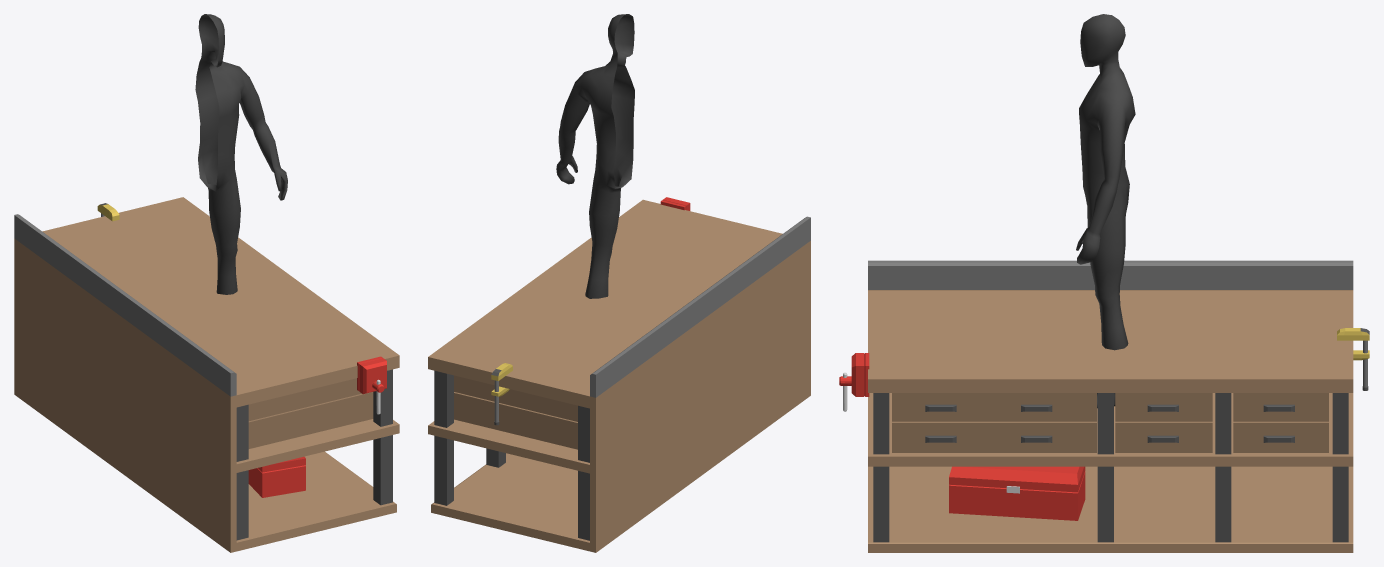
Rendered from Workbench.fbx.
3 views of the same model, side by side, from view 1: azimuth 30°, elevation 25°; view 2: azimuth 150°, elevation 25°; view 3: azimuth 270°, elevation 25° (orthographic). The views are drawn at different scales.
Visible parts, largest first — view 1: Workbench, Body; view 2: Workbench, Body; view 3: Workbench, Body.
Boxes of the visible parts, x1,y1,x2,y2 form: Workbench: (14,197,399,552); Body: (195,14,287,294); Workbench: (428,197,810,552); Body: (556,14,634,298); Workbench: (839,260,1369,552); Body: (1076,14,1135,408).
Size of the model in its own units: 96.31 by 237 by 231.
